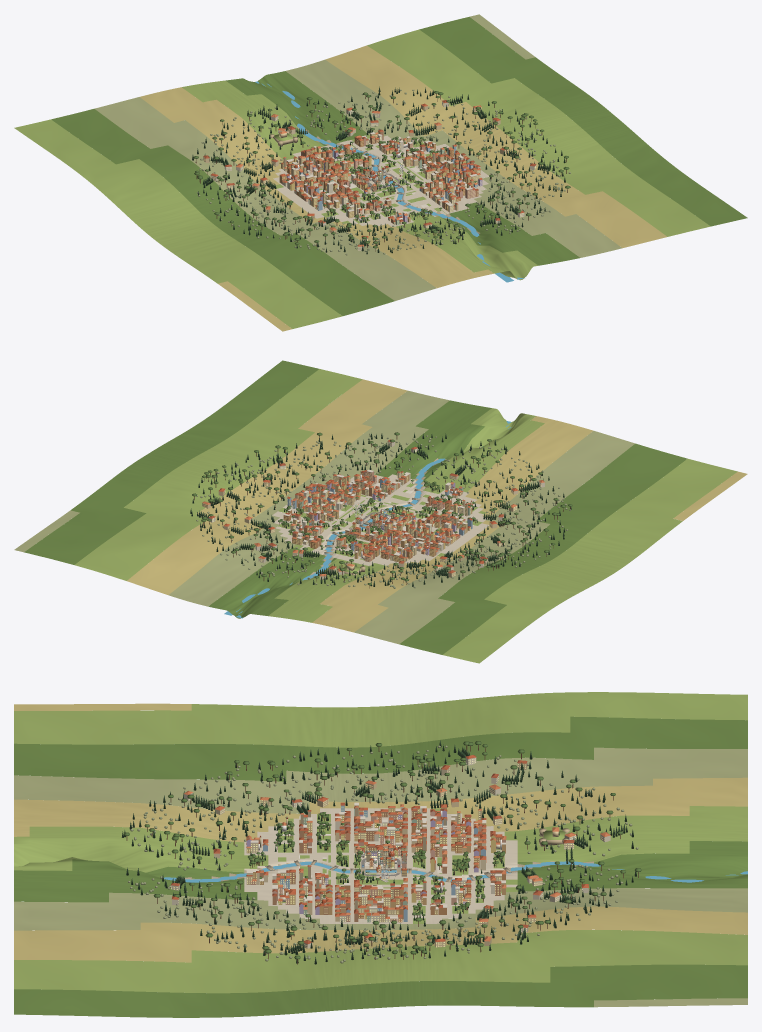
The model's file is city.glb.
The picture shows the model from 3 angles, top to bottom: view 1: azimuth 30°, elevation 25°; view 2: azimuth 150°, elevation 25°; view 3: azimuth 270°, elevation 25°; orthographic projection. The views are drawn at different scales.
Visible parts, largest first — view 1: far_ground, far_trees_cypress_distant, far_trees_umbrella_distant, far_trees_olive_distant, far_town_cotto_0_distant, far_town_cotto_1_distant, far_town_cotto_2_distant, far_town_wall_0_distant, far_trees_trunk_distant, far_town_wall_3_distant, liquid_river_far, far_town_glass_distant (+7 smaller); view 2: far_ground, far_trees_cypress_distant, far_trees_umbrella_distant, far_trees_olive_distant, far_town_cotto_0_distant, far_town_cotto_2_distant, far_town_cotto_1_distant, far_town_wall_0_distant, far_town_glass_distant, far_trees_trunk_distant, far_town_wall_3_distant, liquid_river_far (+8 smaller); view 3: far_ground, far_trees_cypress_distant, far_trees_umbrella_distant, far_trees_olive_distant, far_town_cotto_0_distant, far_town_cotto_1_distant, far_town_cotto_2_distant, far_trees_trunk_distant, far_town_wall_0_distant, static, far_town_wall_3_distant, far_town_glass_distant (+9 smaller).
Boxes of the visible parts, x1,y1,x2,y2 form: far_ground: (14,14,747,331); far_trees_cypress_distant: (192,86,565,254); far_trees_umbrella_distant: (193,91,570,248); far_trees_olive_distant: (197,89,570,255); far_town_cotto_0_distant: (211,103,524,237); far_town_cotto_1_distant: (236,105,481,246); far_town_cotto_2_distant: (203,100,536,225); far_town_wall_0_distant: (203,105,508,233); far_trees_trunk_distant: (195,93,567,251); far_town_wall_3_distant: (210,101,536,250); liquid_river_far: (255,81,524,282); far_town_glass_distant: (204,103,535,250); far_ground: (14,360,747,663); far_trees_cypress_distant: (190,433,571,586); far_trees_umbrella_distant: (192,432,572,585); far_trees_olive_distant: (196,433,570,588); far_town_cotto_0_distant: (219,439,518,563); far_town_cotto_2_distant: (208,446,503,573); far_town_cotto_1_distant: (202,475,544,576); far_town_wall_0_distant: (202,472,517,577); far_town_glass_distant: (203,442,541,577); far_trees_trunk_distant: (194,435,570,588); far_town_wall_3_distant: (208,441,544,579); liquid_river_far: (224,421,511,618); far_ground: (14,692,747,1017); far_trees_cypress_distant: (121,740,636,964); far_trees_umbrella_distant: (124,741,641,959); far_trees_olive_distant: (128,745,638,963); far_town_cotto_0_distant: (172,755,588,941); far_town_cotto_1_distant: (184,780,610,941); far_town_cotto_2_distant: (171,760,574,944); far_trees_trunk_distant: (126,745,638,964); far_town_wall_0_distant: (246,762,535,947); static: (354,845,407,877); far_town_wall_3_distant: (171,757,610,948); far_town_glass_distant: (171,758,604,947).
Size of the model in its own units: 220 by 12.87 by 220.
